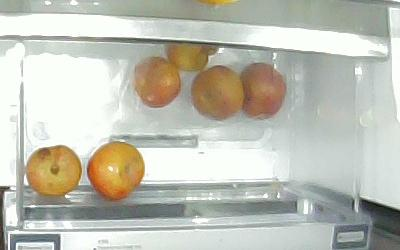prune: (87, 142, 145, 200), (26, 145, 82, 197)
prune_vinyl: (192, 66, 244, 121), (240, 61, 285, 119), (132, 57, 181, 108), (165, 42, 219, 70)
